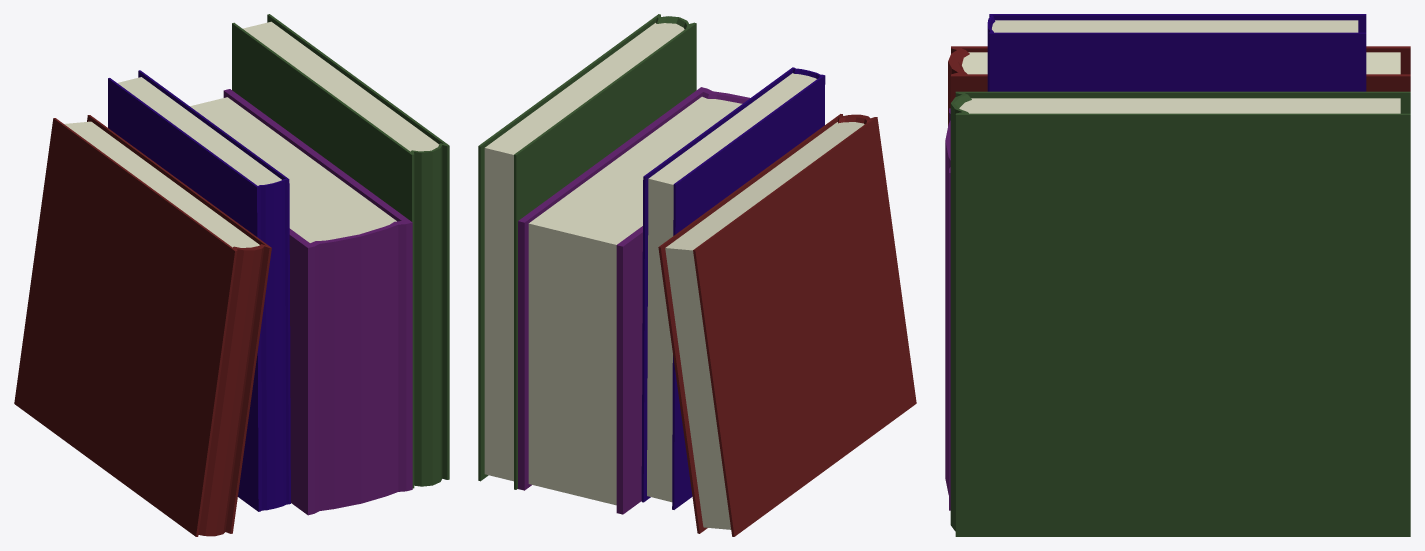
Rendered from Books.fbx.
3 renders of one model, left to right at view 1: azimuth 30°, elevation 25°; view 2: azimuth 150°, elevation 25°; view 3: azimuth 270°, elevation 25°, orthographic. The views are drawn at different scales.
Parts seen in each view (by area): view 1: pCube2, pCube5, pCube3, pCube4; view 2: pCube2, pCube5, pCube3, pCube4; view 3: pCube3, pCube4, pCube2, pCube5.
Part boxes in pixels (left/top/right/bottom): pCube2: left=14, top=115, right=271, bottom=536; pCube5: left=190, top=89, right=412, bottom=515; pCube3: left=232, top=14, right=449, bottom=488; pCube4: left=108, top=70, right=290, bottom=511; pCube2: left=658, top=114, right=916, bottom=536; pCube5: left=518, top=87, right=749, bottom=514; pCube3: left=478, top=14, right=696, bottom=489; pCube4: left=641, top=67, right=825, bottom=509; pCube3: left=950, top=91, right=1410, bottom=536; pCube4: left=987, top=14, right=1366, bottom=91; pCube2: left=948, top=46, right=1410, bottom=125; pCube5: left=945, top=108, right=950, bottom=510.
Size of the model in its own units: 2.4 by 3 by 3.
